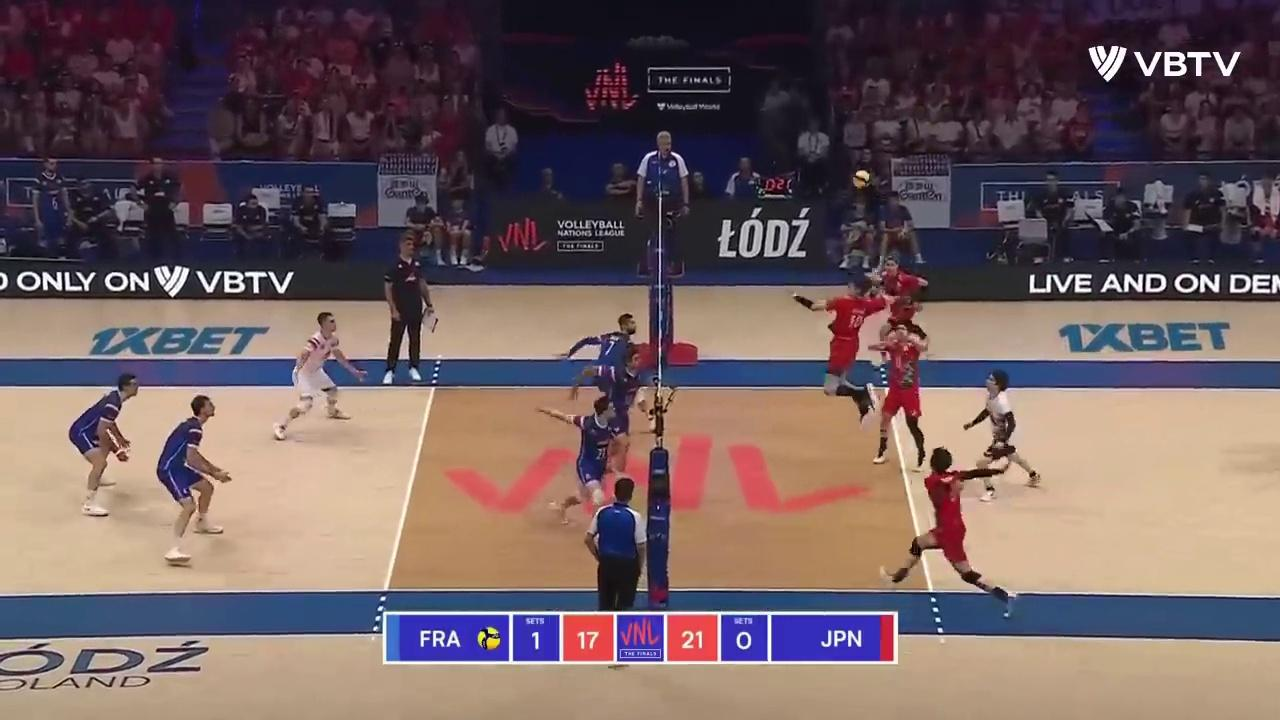ball: (852, 171, 872, 189)
